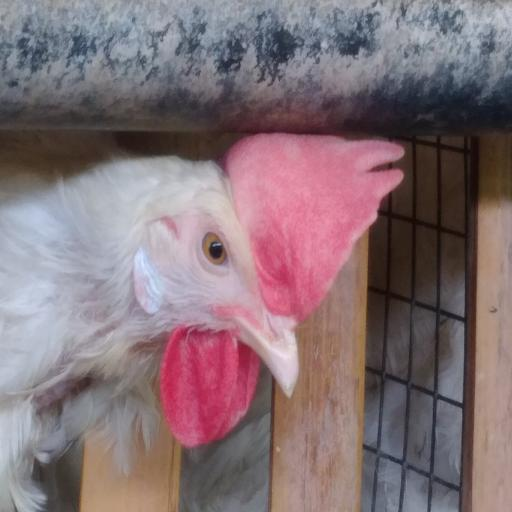healthy: (174, 136, 324, 352)
